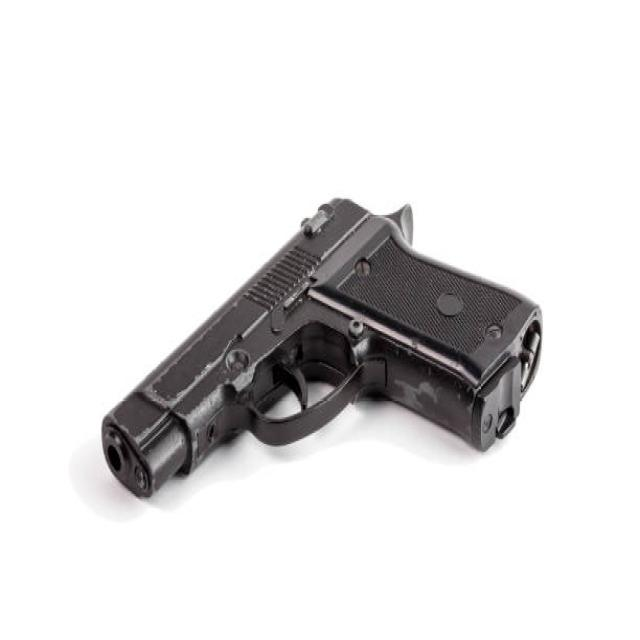pistol: (94, 176, 548, 510)
